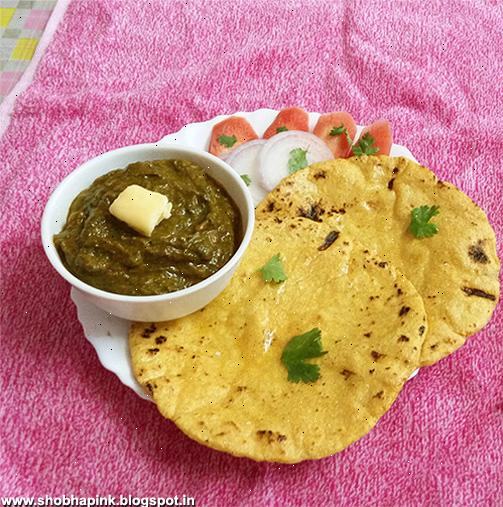saag: (58, 163, 241, 292)
